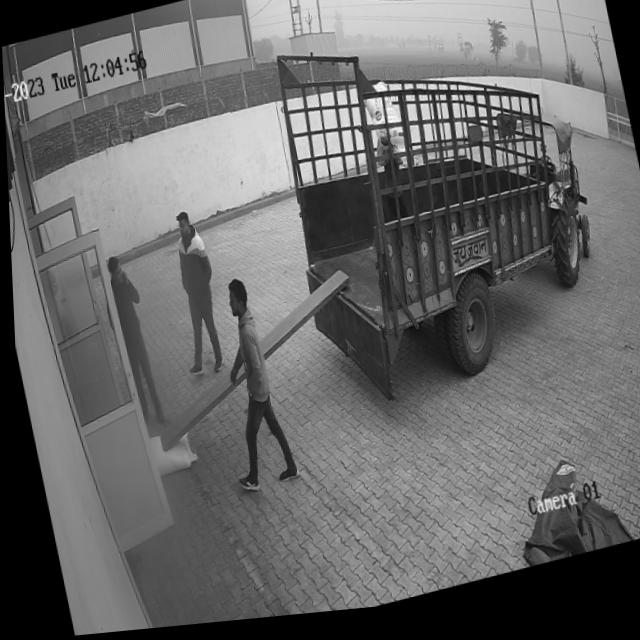sack: (144, 429, 196, 480)
